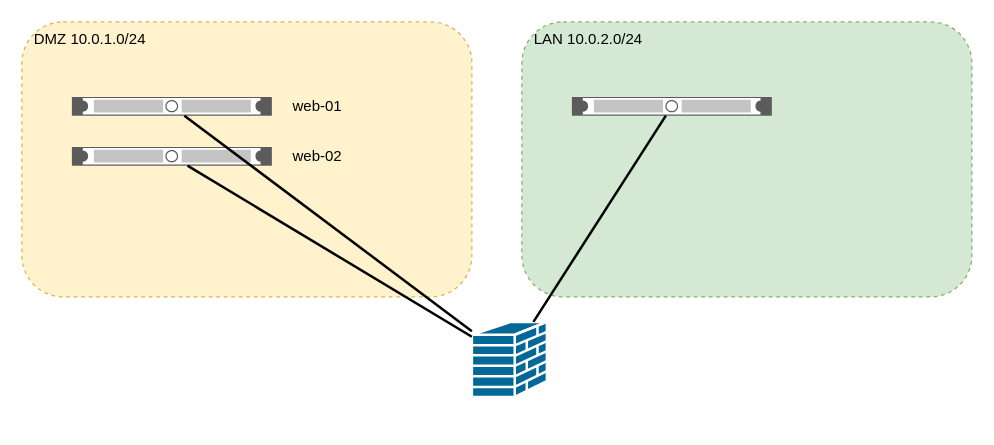
Some shapes in this 994 by 445 pixel diagram are drawn without their labels. Here are the shapes that lost their labels. From the top down, the centre of each, then its label:
At point 671,106: "db-01".
At point 509,359: "fw".
